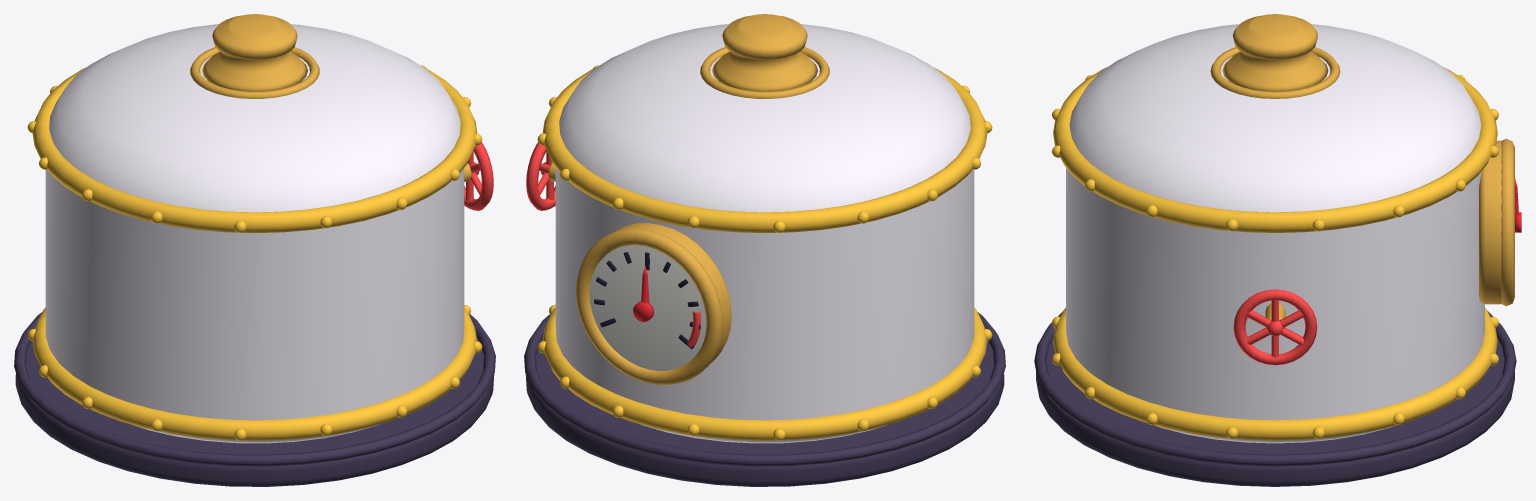
Rendered from AirTank.obj.
The picture shows the model from 3 angles, left to right: view 1: azimuth 30°, elevation 25°; view 2: azimuth 150°, elevation 25°; view 3: azimuth 270°, elevation 25°; orthographic projection.
Parts seen in each view (by area): view 1: Tank, Feet, TankBands, Brass, DialRed; view 2: Tank, Feet, TankBands, Brass, Dial, DialRed, Ticks, Needle; view 3: Tank, Feet, TankBands, Brass, DialRed.
Part boxes in pixels (x1,y1,x2,y2): Tank: (45, 24, 464, 443); Feet: (14, 312, 495, 486); TankBands: (27, 65, 482, 440); Brass: (190, 14, 471, 181); DialRed: (464, 142, 493, 210); Tank: (555, 24, 974, 443); Feet: (524, 312, 1005, 486); TankBands: (537, 65, 992, 440); Brass: (548, 14, 829, 384); Dial: (589, 245, 706, 370); DialRed: (526, 142, 700, 347); Ticks: (594, 252, 700, 349); Needle: (633, 265, 653, 321); Tank: (1066, 24, 1484, 443); Feet: (1034, 311, 1516, 486); TankBands: (1051, 67, 1498, 440); Brass: (1210, 14, 1514, 320); DialRed: (1233, 289, 1317, 365).
Size of the model in its own units: 5.84 by 4.7 by 5.7.
